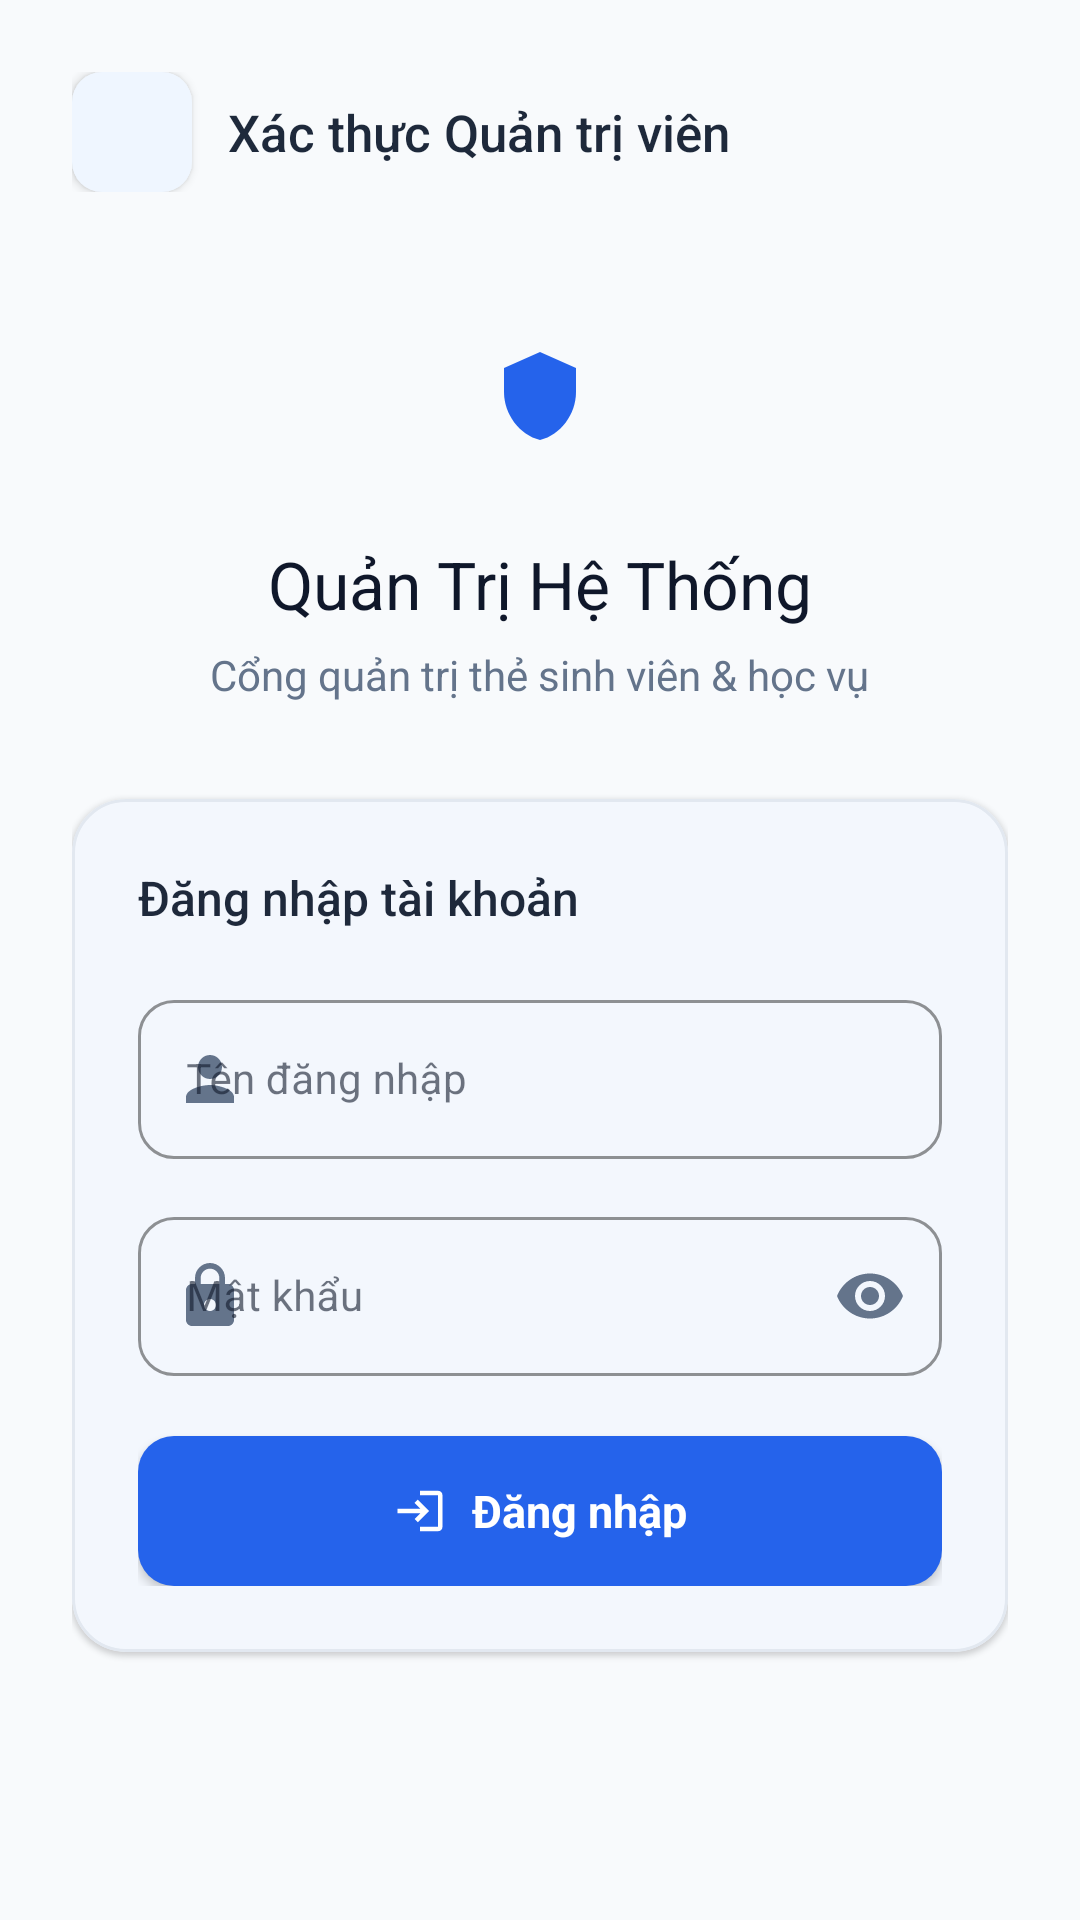

Icons on this 1080px x 1920px Android screen, each with its box as (x1, y1, x2, y2):
Admin Security Shield: (504, 352, 576, 440)
